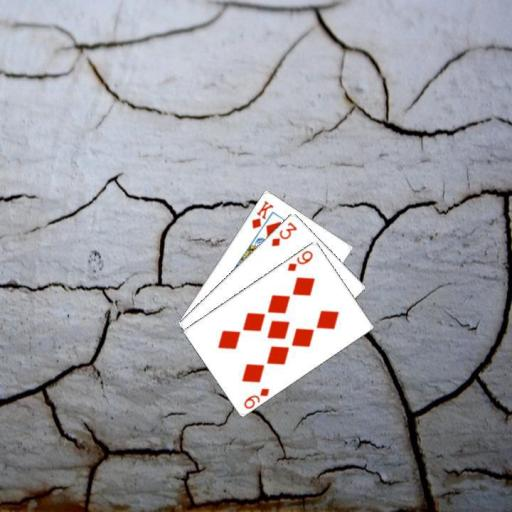3D: (268, 218, 299, 248)
9D: (240, 385, 271, 410), (285, 247, 315, 272)
KD: (248, 198, 275, 230)
